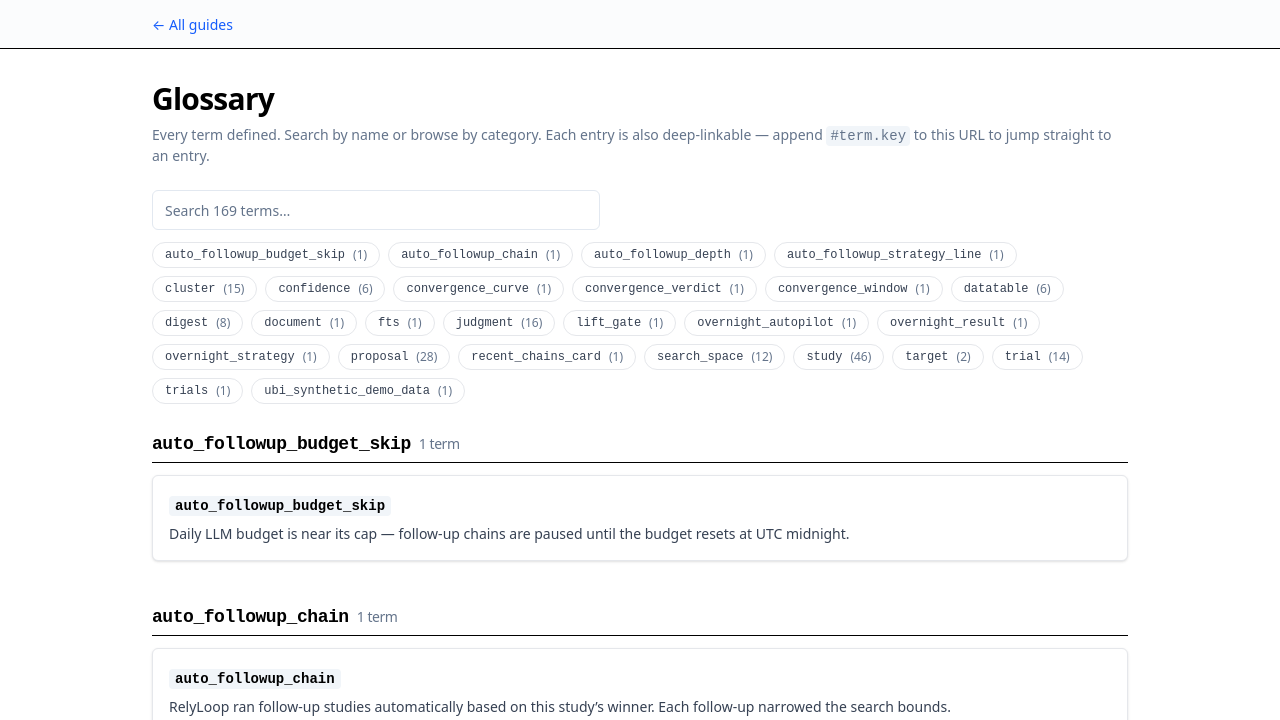
Scenario: Glossary route — search › shows the empty state when no entry matches
Type "zzz-no-match-xyz" into the search field with test id "glossary-search" at [376, 210], box [152,190,600,230]
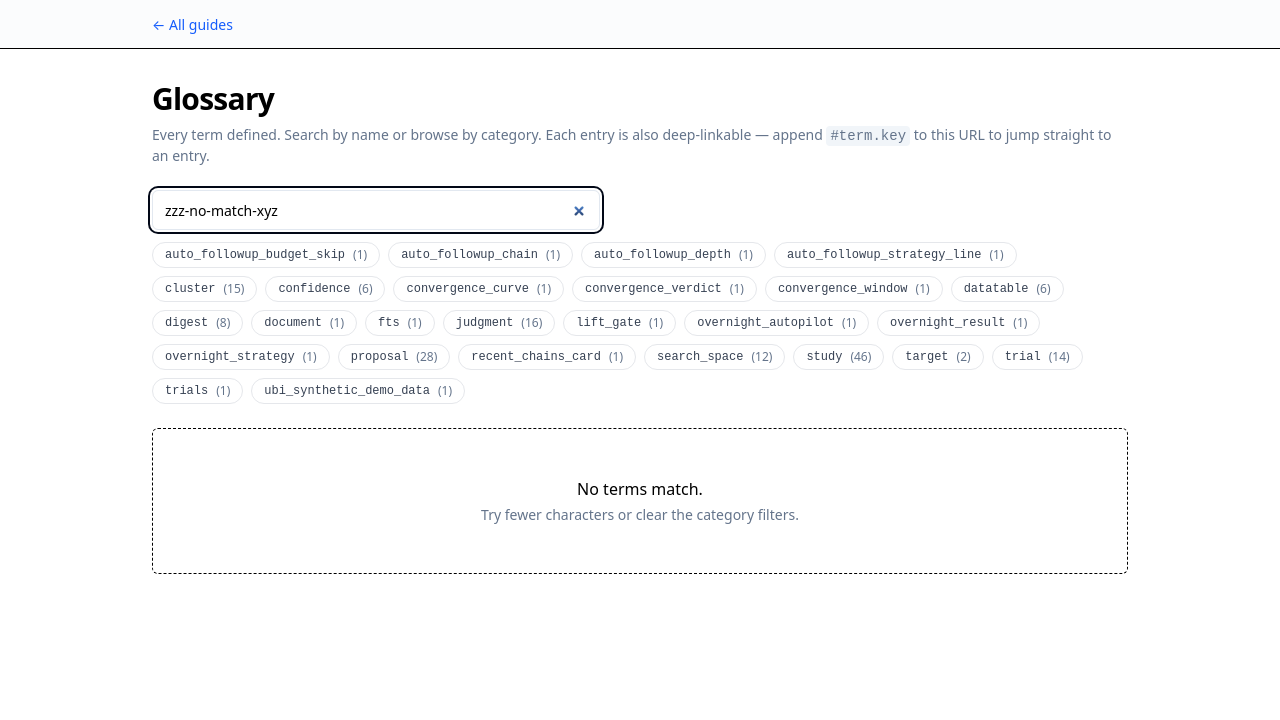
Result: the element with test id "glossary-empty" is shown at [152,428,1128,574]
Result: the text "No terms match." is shown at [577,478,703,500]
